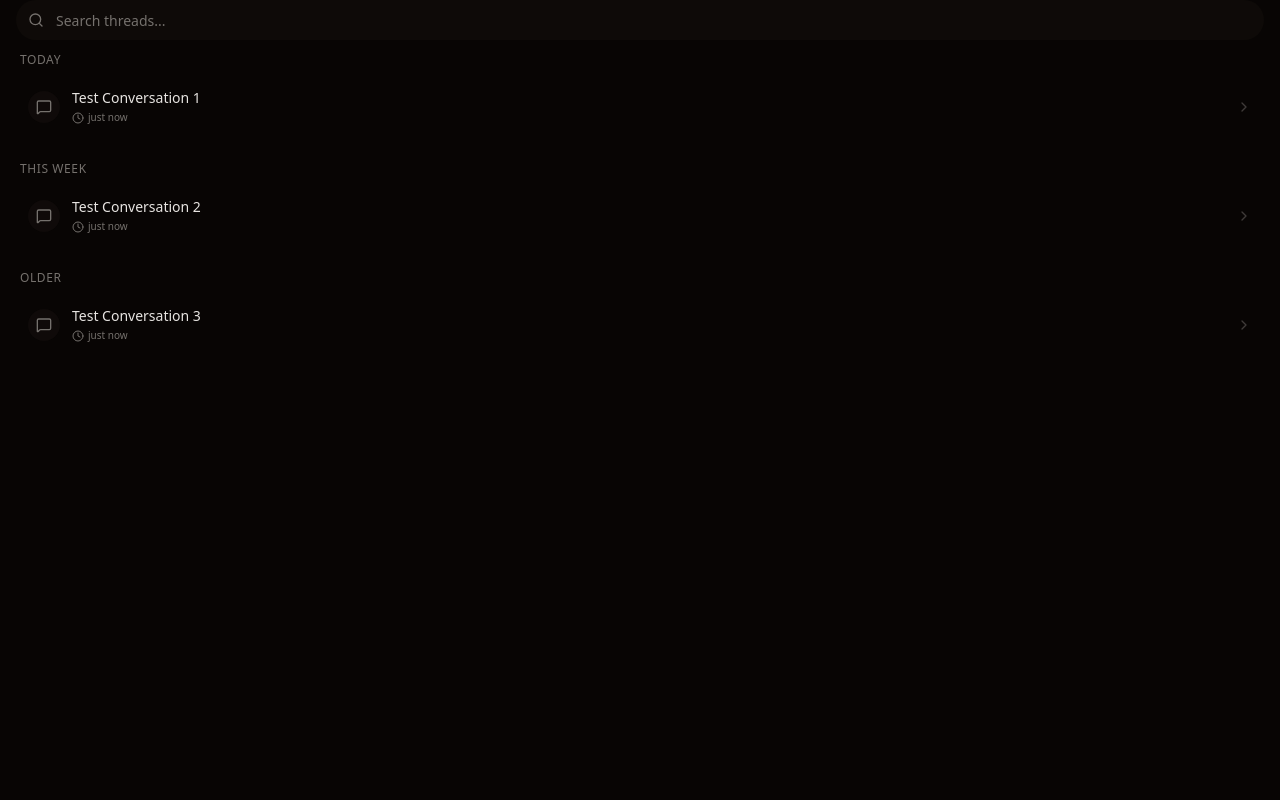
ChatHistoryContent › Search Functionality › should show clear button when search has text
Step 1. Type "test" into the field with placeholder "Search threads..." → (640, 20), box x1=16 y1=0 x2=1264 y2=40
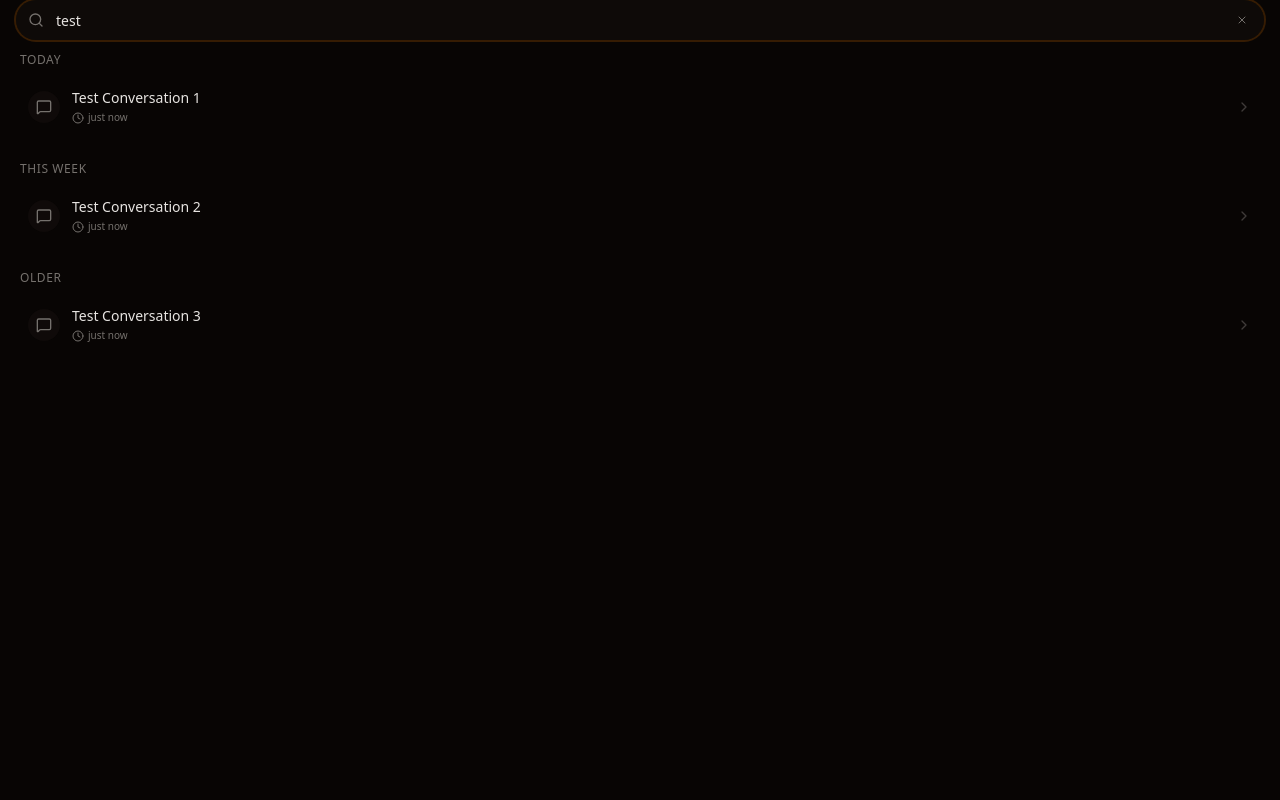
Expected: the button named "Clear search" is shown, x1=1232 y1=10 x2=1252 y2=30
